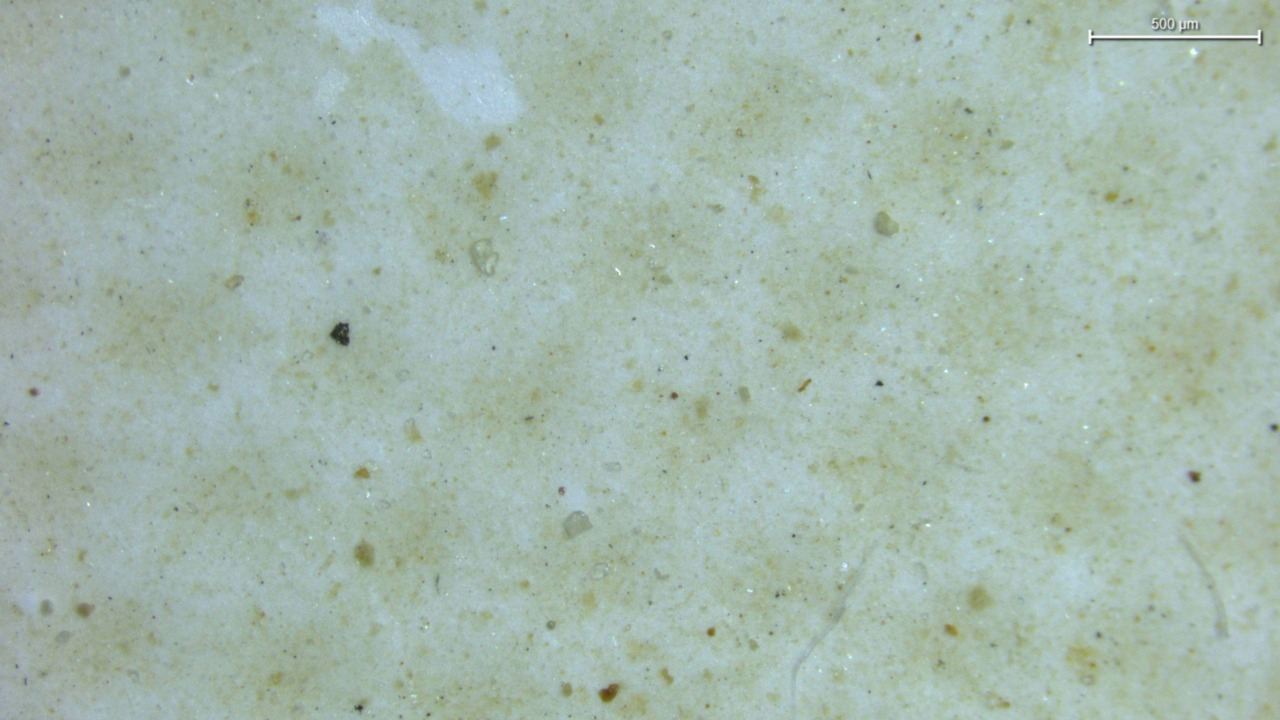microplastic_fragment: (468, 238, 498, 276), (562, 511, 591, 539), (330, 322, 350, 345)
